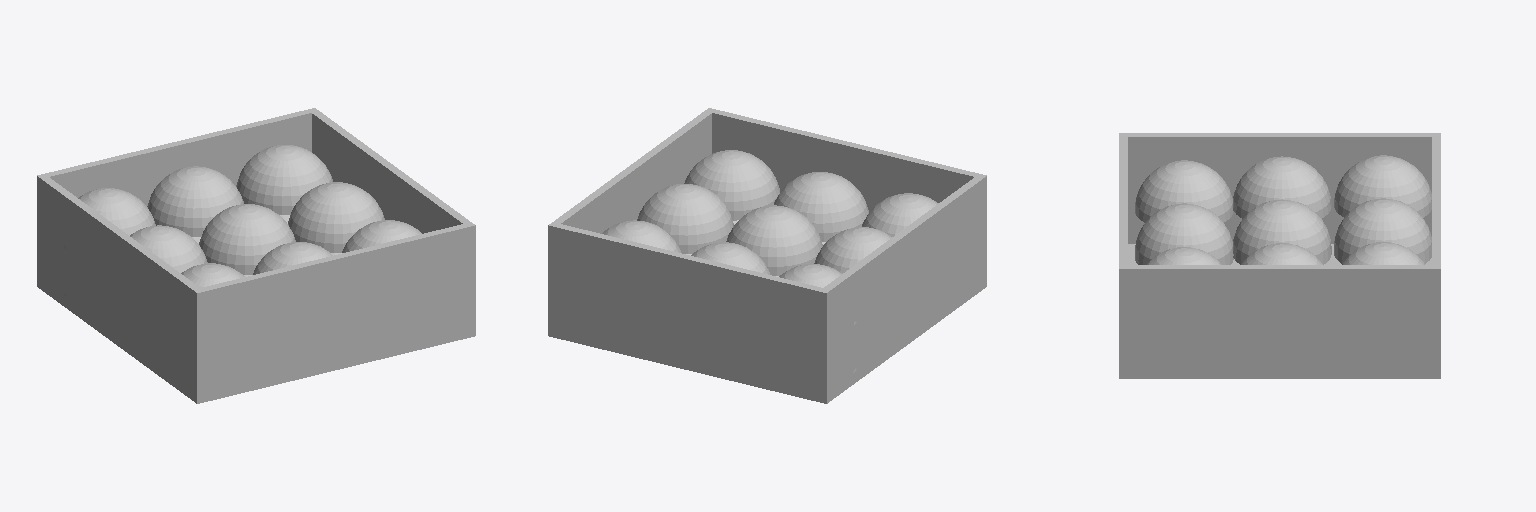
Rendered from kue nastar.obj.
3 renders of one model, left to right at view 1: azimuth 30°, elevation 25°; view 2: azimuth 150°, elevation 25°; view 3: azimuth 270°, elevation 25°, orthographic.
Parts seen in each view (by area): view 1: Cube, Sphere.013, Sphere.016, Sphere.014, Sphere.017, Sphere.015, Sphere.018, Sphere.011, Sphere.010, Sphere.012; view 2: Cube, Sphere.013, Sphere.014, Sphere.010, Sphere.011, Sphere.015, Sphere.012, Sphere.017, Sphere.016, Sphere.018; view 3: Cube, Sphere.011, Sphere.017, Sphere.014, Sphere.015, Sphere.012, Sphere.018, Sphere.016, Sphere.013, Sphere.010.
Part boxes in pixels (left/top/right/bottom): Cube: left=37, top=108, right=475, bottom=403; Sphere.013: left=288, top=182, right=384, bottom=252; Sphere.016: left=236, top=145, right=332, bottom=214; Sphere.014: left=199, top=204, right=295, bottom=274; Sphere.017: left=147, top=166, right=243, bottom=236; Sphere.015: left=130, top=225, right=207, bottom=272; Sphere.018: left=63, top=188, right=155, bottom=248; Sphere.011: left=253, top=242, right=332, bottom=274; Sphere.010: left=342, top=220, right=421, bottom=252; Sphere.012: left=181, top=263, right=244, bottom=287; Cube: left=548, top=108, right=986, bottom=403; Sphere.013: left=637, top=184, right=733, bottom=253; Sphere.014: left=726, top=205, right=822, bottom=275; Sphere.010: left=684, top=150, right=779, bottom=220; Sphere.011: left=774, top=172, right=868, bottom=241; Sphere.015: left=814, top=227, right=891, bottom=273; Sphere.012: left=862, top=193, right=938, bottom=236; Sphere.017: left=691, top=242, right=770, bottom=274; Sphere.016: left=602, top=220, right=680, bottom=252; Sphere.018: left=779, top=264, right=856, bottom=324; Cube: left=1119, top=133, right=1440, bottom=378; Sphere.011: left=1135, top=203, right=1233, bottom=264; Sphere.017: left=1334, top=198, right=1431, bottom=260; Sphere.014: left=1233, top=199, right=1331, bottom=261; Sphere.015: left=1233, top=156, right=1331, bottom=218; Sphere.012: left=1135, top=160, right=1233, bottom=222; Sphere.018: left=1334, top=155, right=1431, bottom=217; Sphere.016: left=1342, top=242, right=1424, bottom=264; Sphere.013: left=1241, top=243, right=1322, bottom=264; Sphere.010: left=1147, top=247, right=1221, bottom=264.
Bounding box in the file's own units: 1.5 × 0.5689 × 1.49.